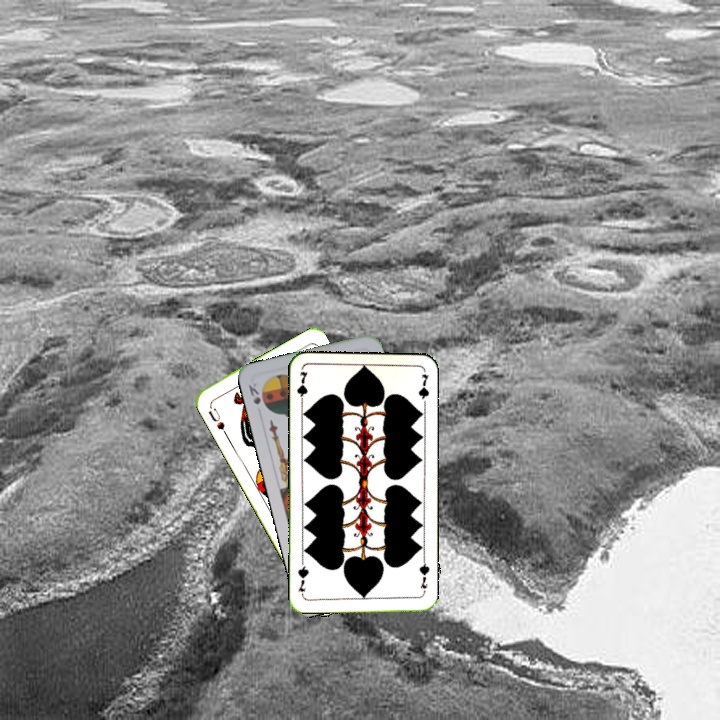G7: (293, 367, 310, 408), (415, 556, 432, 596)
SK: (244, 381, 269, 411)
SU: (204, 401, 230, 438)
